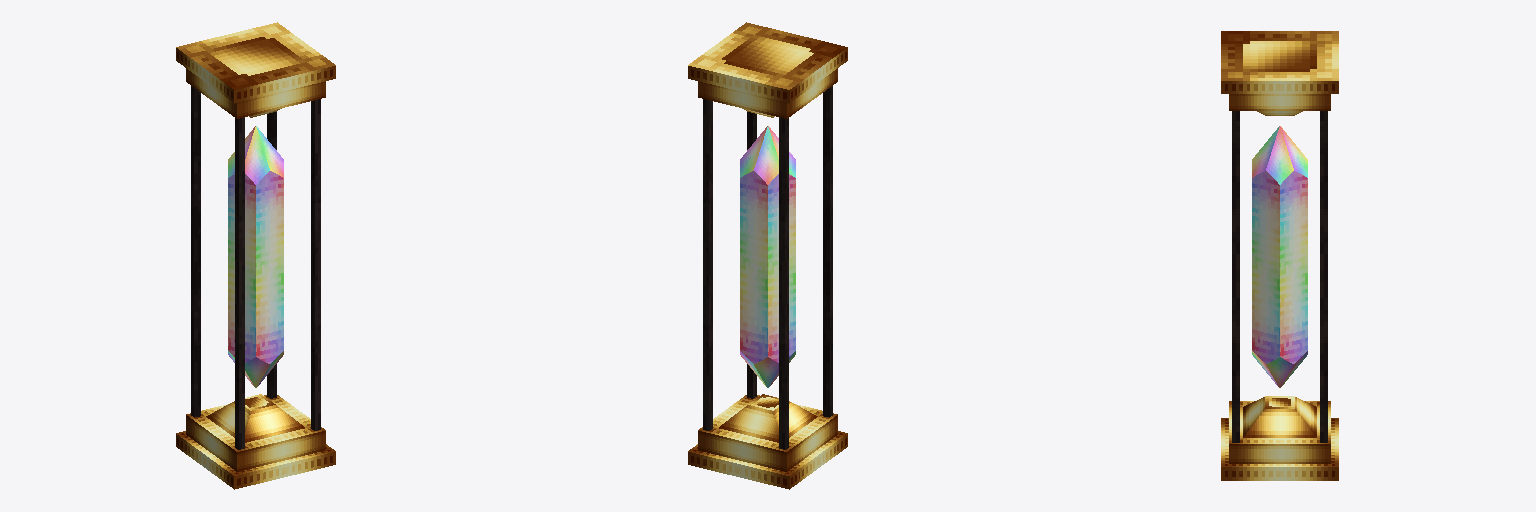
The picture shows the model from 3 angles: view 1: azimuth 30°, elevation 25°; view 2: azimuth 150°, elevation 25°; view 3: azimuth 270°, elevation 25°; orthographic projection.
Parts seen in each view (by area): view 1: Base, Crystal, Struts; view 2: Base, Crystal, Struts; view 3: Base, Crystal, Struts.
Boxes of the visible parts, <box> form: Base: <box>176,22,335,489</box>; Crystal: <box>228,126,283,387</box>; Struts: <box>191,86,320,449</box>; Base: <box>688,22,847,489</box>; Crystal: <box>740,126,795,387</box>; Struts: <box>703,86,832,449</box>; Base: <box>1221,31,1338,480</box>; Crystal: <box>1252,126,1307,387</box>; Struts: <box>1232,111,1327,442</box>.
Size of the model in its own units: 0.7874 by 2.95 by 0.7874.
Materials: 1 (1 with a texture image).